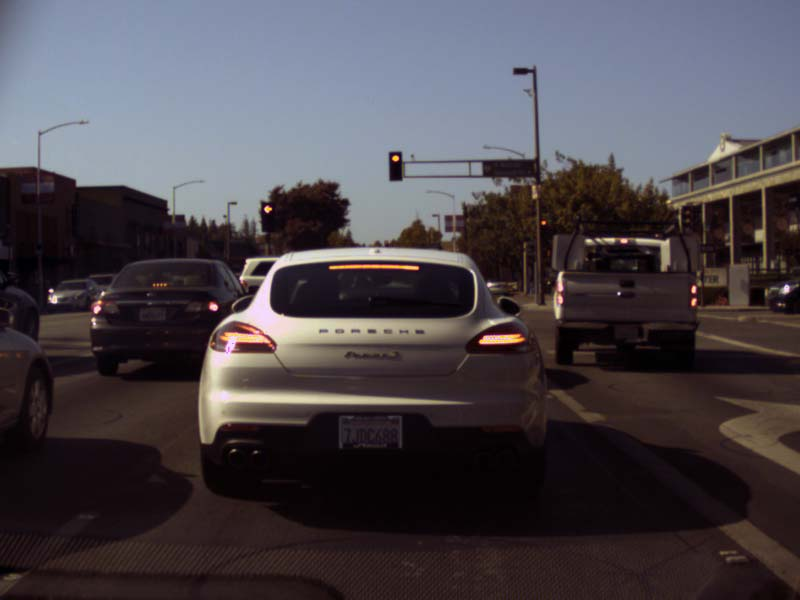Red: (387, 151, 402, 180), (261, 202, 275, 233), (539, 218, 545, 233)
